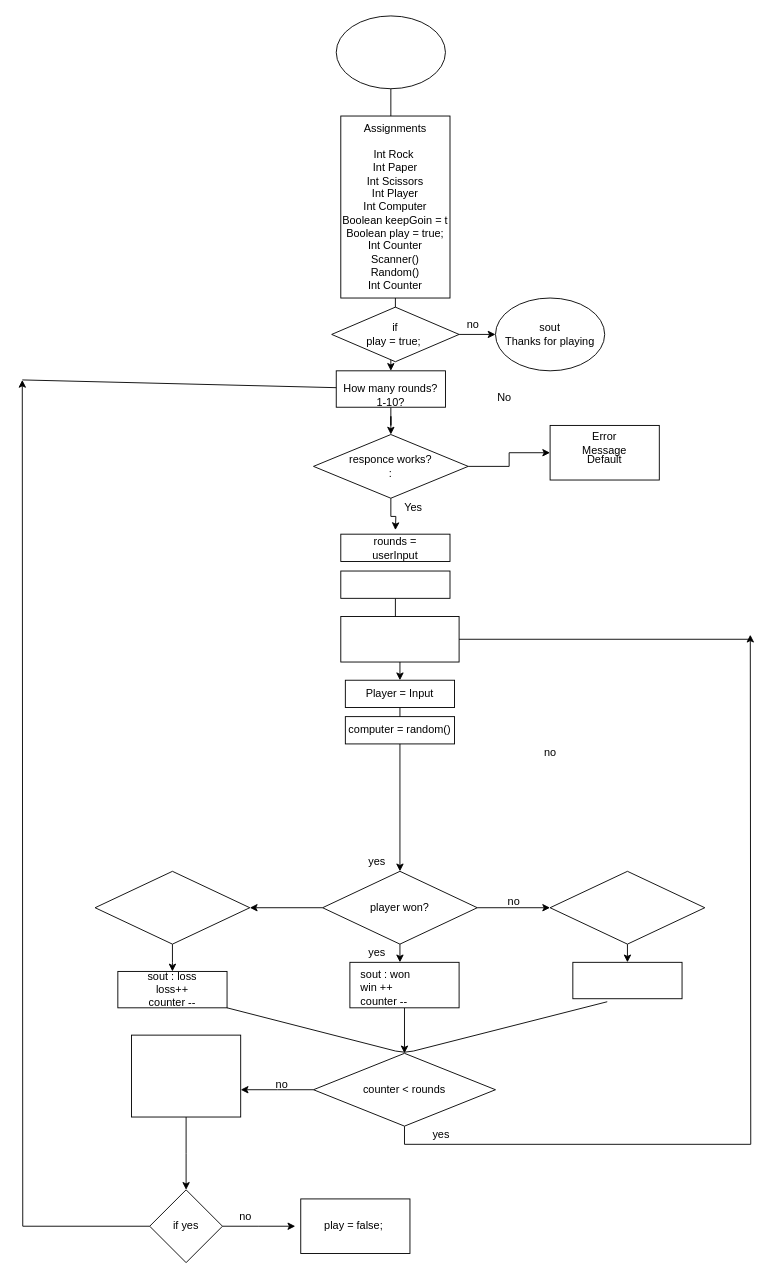
Image size: 774x1279. Some labels were removed from this diagram. Each missing label, with the centre of its shape:
"keepgoing = false; sout: results sout: Do you wanna play again?" belongs at point 186,1075.
"KeepGoing = True" belongs at point 395,584.
"player = computer" belongs at point 627,907.
"player loss?" belongs at point 172,907.
"Prompt (Choose Rock, Paper, Scissor)" belongs at point 399,639.
"sout: Tie Tie ++ counter --" belongs at point 627,980.
"Start" belongs at point 390,52.
